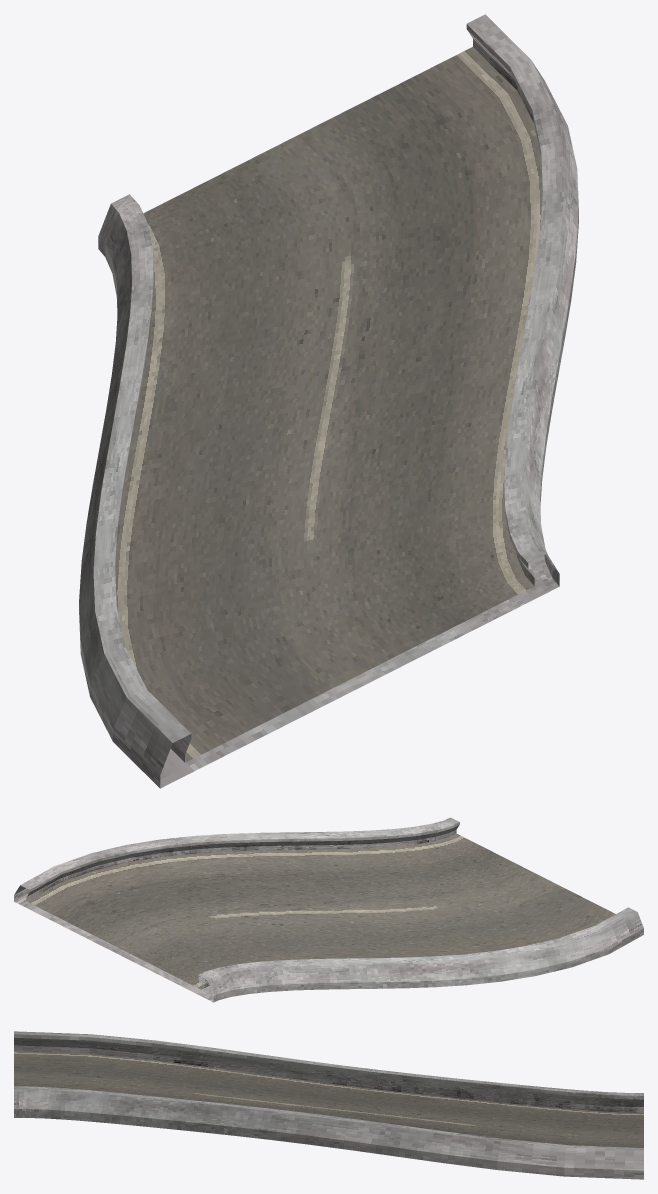
File: road-Chicane-HalfBankedLeft-HalfBankedLeft-Up1-Right1-Size2.glb
3 views of the same model, one above another, from view 1: azimuth 30°, elevation 25°; view 2: azimuth 150°, elevation 25°; view 3: azimuth 270°, elevation 25° (orthographic). The views are drawn at different scales.
Parts seen in each view (by area): view 1: road-Chicane-HalfBankedLeft-HalfBankedLeft-Up1-Right1-Size2; view 2: road-Chicane-HalfBankedLeft-HalfBankedLeft-Up1-Right1-Size2; view 3: road-Chicane-HalfBankedLeft-HalfBankedLeft-Up1-Right1-Size2.
Part boxes in pixels (box(x1,y1,x2,y2)): road-Chicane-HalfBankedLeft-HalfBankedLeft-Up1-Right1-Size2: box(79, 14, 578, 788); road-Chicane-HalfBankedLeft-HalfBankedLeft-Up1-Right1-Size2: box(14, 817, 643, 1002); road-Chicane-HalfBankedLeft-HalfBankedLeft-Up1-Right1-Size2: box(14, 1031, 643, 1179).
Bounding box in the file's own units: 2 × 0.5859 × 2.
2 materials, 2 textured.
